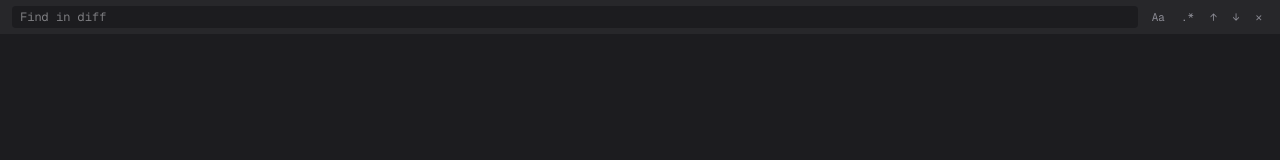
Test: FindBar › steps to the next match on Enter
In the field labelled "Find in diff": (575, 17) [12,6,1138,28], type "beta"
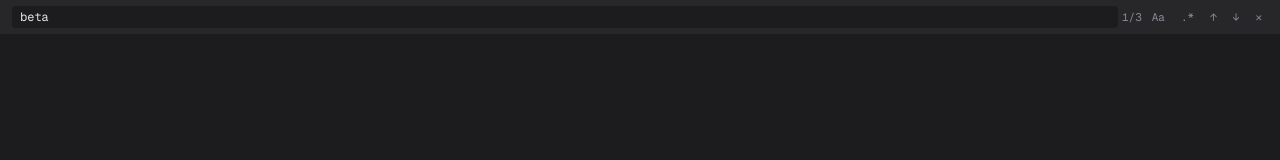
Press Enter in the field named "Find in diff", box [12,6,1118,28]
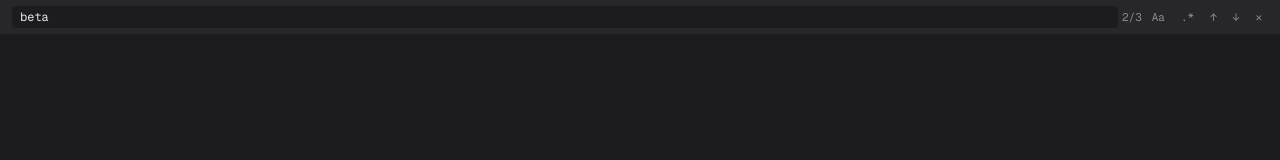
expect the text "2/3" is shown: met, box [1122,9,1142,25]
